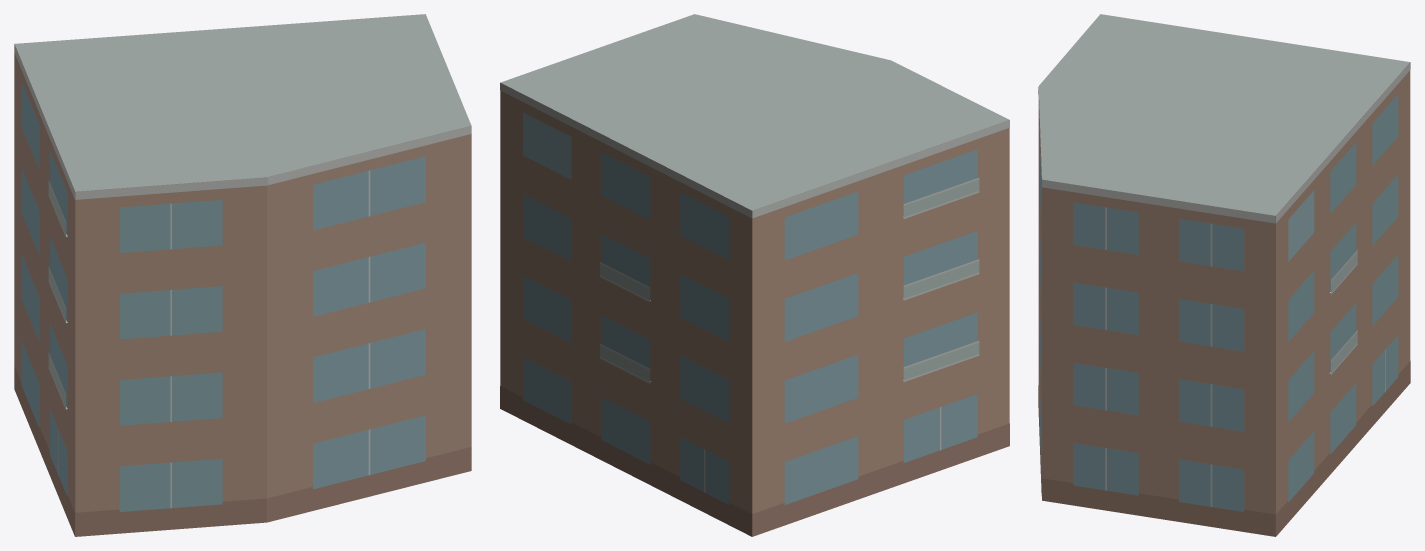
File: survey-upis-32666130.glb
3 views of the same model, side by side, from view 1: azimuth 30°, elevation 25°; view 2: azimuth 150°, elevation 25°; view 3: azimuth 270°, elevation 25° (orthographic). The views are drawn at different scales.
Visible parts, largest first — view 1: survey-upis-32666130.tmp; view 2: survey-upis-32666130.tmp; view 3: survey-upis-32666130.tmp.
Part boxes in pixels (x1,y1,x2,y2): survey-upis-32666130.tmp: [14, 14, 471, 536]; survey-upis-32666130.tmp: [500, 14, 1009, 536]; survey-upis-32666130.tmp: [1038, 14, 1410, 536].
Bounding box in the file's own units: 13.77 × 10.2 × 10.72.
